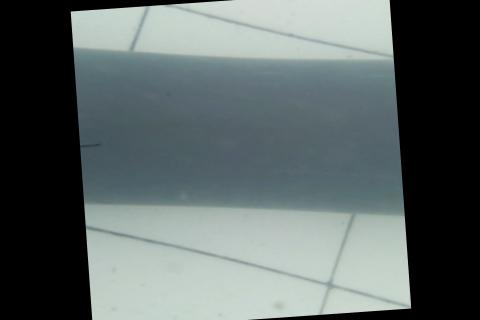keretakan: (78, 141, 103, 151)
